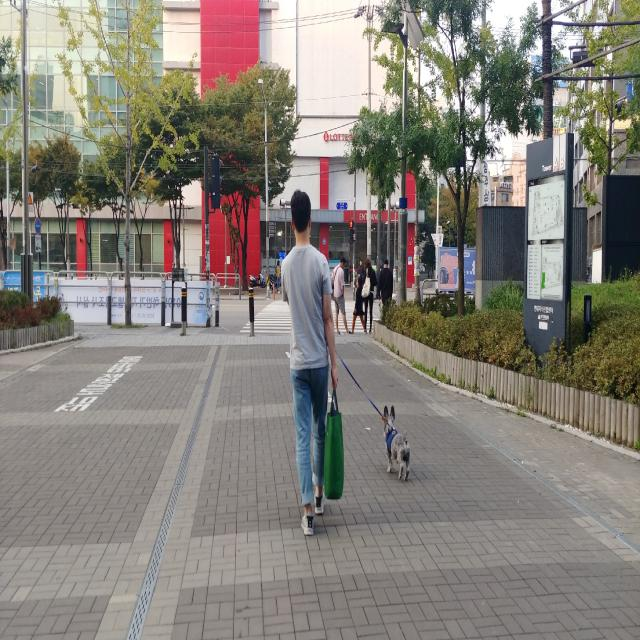빨간불: (348, 219, 354, 244)
횡단보도: (237, 286, 382, 337)
